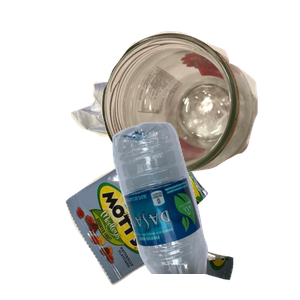glass: (98, 29, 300, 198)
paper: (68, 66, 215, 197)
plastic: (110, 120, 300, 300)
trash: (63, 137, 289, 300)
